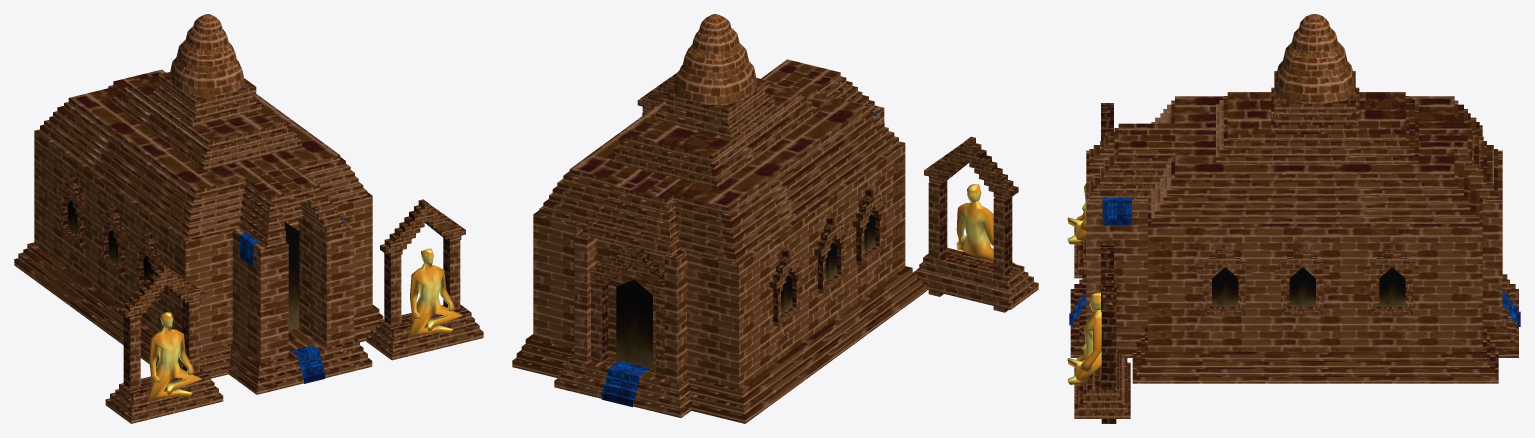
Rendered from temple.dae.
3 renders of one model, left to right at view 1: azimuth 30°, elevation 25°; view 2: azimuth 150°, elevation 25°; view 3: azimuth 270°, elevation 25°, orthographic. The views are drawn at different scales.
Parts seen in each view (by area): view 1: temple; view 2: temple; view 3: temple.
Part boxes in pixels (bbox=[...]): temple: bbox=[14, 14, 483, 423]; temple: bbox=[512, 14, 1038, 423]; temple: bbox=[1067, 14, 1520, 423].
Size of the model in its own units: 25.43 by 25.61 by 20.23.
